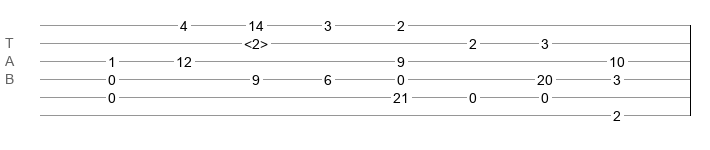0: (108, 90, 116, 100), (108, 72, 116, 82), (397, 72, 405, 82), (469, 90, 477, 100), (541, 90, 549, 100)
1: (108, 54, 116, 64)
10: (609, 54, 625, 64)
12: (176, 54, 192, 64)
14: (248, 18, 264, 28)
2: (397, 18, 405, 28), (469, 36, 477, 46), (613, 108, 621, 118)
20: (537, 72, 553, 82)
21: (393, 90, 409, 100)
3: (324, 18, 332, 28), (541, 36, 549, 46), (613, 72, 621, 82)
4: (180, 18, 188, 28)
6: (324, 72, 332, 82)
9: (252, 72, 260, 82), (397, 54, 405, 64)
harmonic: (244, 36, 268, 46)
